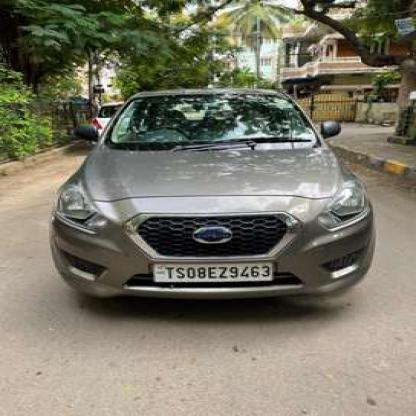license_plate: (151, 261, 271, 282)
